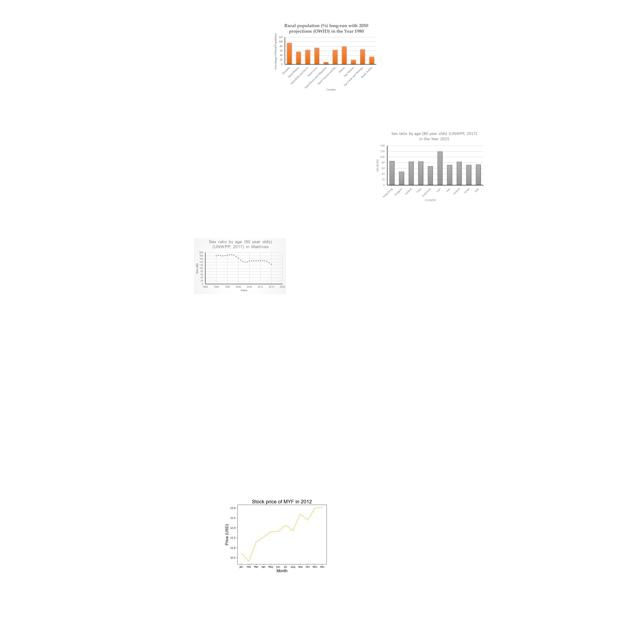Graph: (223, 491, 338, 577), (373, 130, 486, 204), (272, 22, 378, 93), (194, 238, 286, 294)
